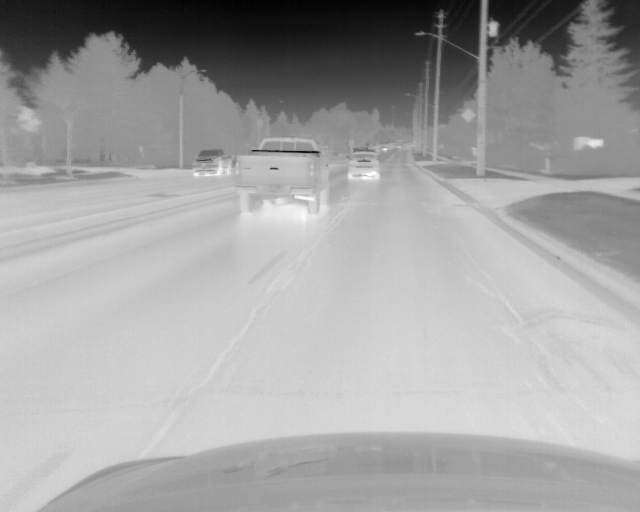car: (231, 136, 329, 214), (193, 147, 235, 177), (346, 150, 381, 183)
